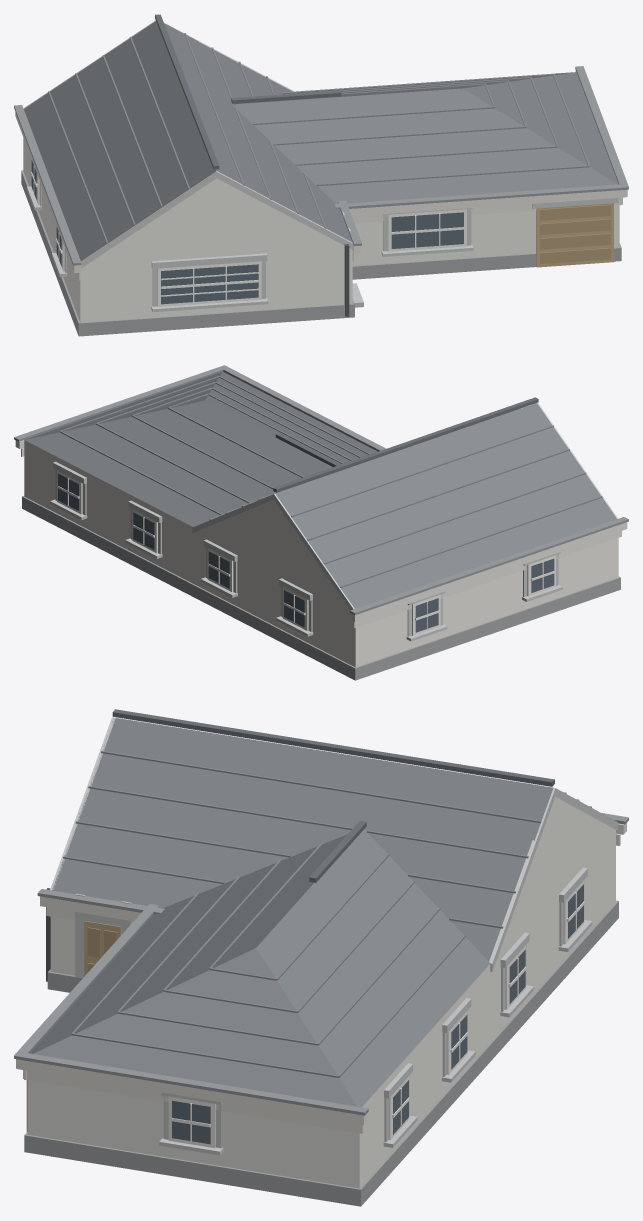
3 renders of one model, top to bottom at view 1: azimuth 30°, elevation 25°; view 2: azimuth 150°, elevation 25°; view 3: azimuth 270°, elevation 25°, orthographic. The views are drawn at different scales.
Parts seen in each view (by area): view 1: slate, harl, plinth, slate_lt, stone_band, lead, string, door_wood_p, frame, window_glass_001, window_glass_002, slate_dk (+1 smaller); view 2: slate, harl, plinth, slate_lt, stone_band, lead, string, frame, slate_dk, window_glass_004, window_glass_003, window_glass_007 (+3 smaller); view 3: slate, harl, plinth, slate_lt, stone_band, string, lead, slate_dk, frame, window_glass_009, door_wood, door_wood_p.
Boxes of the visible parts, x1=… form: slate: x1=24, y1=21, x2=618, y2=260; harl: x1=23, y1=138, x2=619, y2=322; plinth: x1=21, y1=170, x2=621, y2=336; slate_lt: x1=48, y1=33, x2=589, y2=243; stone_band: x1=23, y1=20, x2=618, y2=311; lead: x1=14, y1=66, x2=628, y2=265; string: x1=15, y1=70, x2=627, y2=280; door_wood_p: x1=540, y1=204, x2=610, y2=263; frame: x1=31, y1=165, x2=466, y2=306; window_glass_001: x1=161, y1=264, x2=258, y2=304; window_glass_002: x1=391, y1=212, x2=463, y2=248; slate_dk: x1=155, y1=14, x2=341, y2=169; slate: x1=25, y1=371, x2=616, y2=608; harl: x1=24, y1=440, x2=618, y2=667; plinth: x1=22, y1=496, x2=620, y2=680; slate_lt: x1=60, y1=376, x2=602, y2=587; stone_band: x1=50, y1=403, x2=618, y2=641; lead: x1=14, y1=365, x2=628, y2=615; string: x1=15, y1=440, x2=627, y2=628; frame: x1=57, y1=470, x2=555, y2=635; slate_dk: x1=273, y1=397, x2=538, y2=492; window_glass_004: x1=531, y1=558, x2=554, y2=592; window_glass_003: x1=415, y1=598, x2=438, y2=632; window_glass_007: x1=208, y1=551, x2=229, y2=588; slate: x1=30, y1=718, x2=553, y2=1107; harl: x1=27, y1=797, x2=615, y2=1188; plinth: x1=24, y1=900, x2=618, y2=1206; slate_lt: x1=63, y1=751, x2=604, y2=1077; stone_band: x1=50, y1=717, x2=617, y2=1155; string: x1=16, y1=823, x2=626, y2=1133; lead: x1=14, y1=813, x2=628, y2=1115; slate_dk: x1=112, y1=709, x2=554, y2=882; frame: x1=168, y1=880, x2=584, y2=1148; window_glass_009: x1=172, y1=1100, x2=210, y2=1144; door_wood: x1=26, y1=921, x2=121, y2=1132; door_wood_p: x1=87, y1=927, x2=116, y2=972.
Size of the model in its own units: 21.19 by 5.54 by 14.9.
